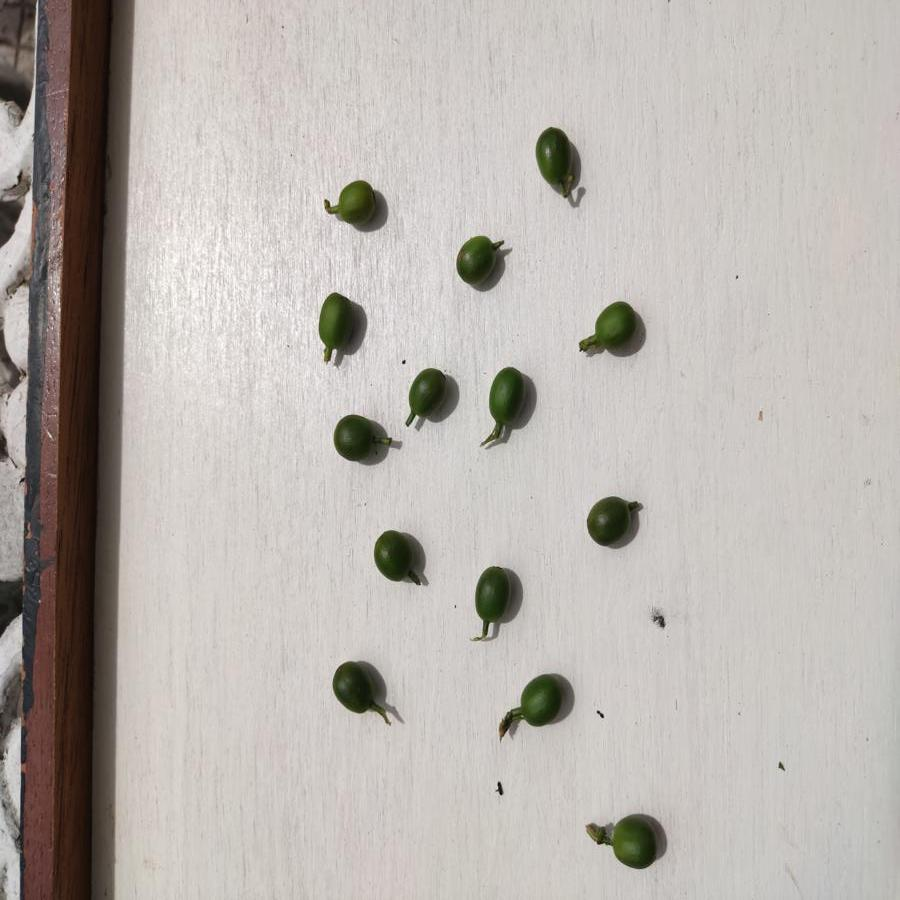Inmaduro: (529, 127, 581, 188), (471, 562, 513, 634), (607, 817, 662, 871), (328, 659, 377, 718), (590, 299, 638, 357), (369, 531, 417, 589), (316, 291, 358, 355), (515, 674, 563, 729), (486, 365, 528, 427), (586, 494, 629, 549), (334, 180, 380, 230), (454, 237, 501, 285), (333, 413, 378, 463), (409, 367, 448, 423)
